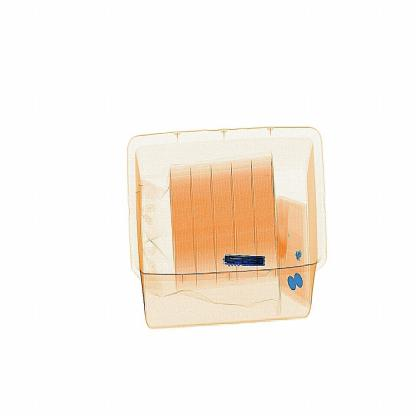scissors: (220, 250, 270, 273)
